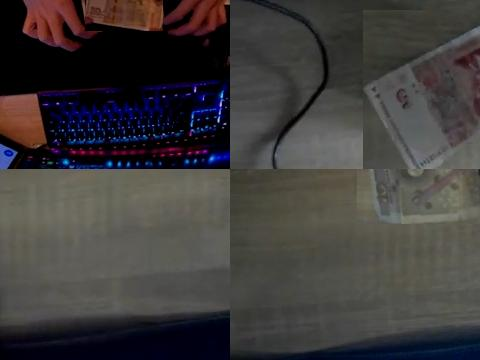10leva: (368, 169, 480, 224)
50leva: (85, 0, 163, 31)
5leva: (363, 23, 480, 169)
